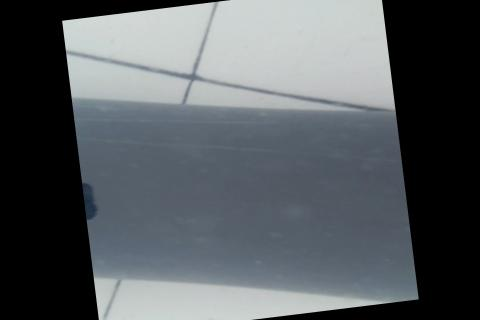kebocoran: (81, 175, 101, 235)
